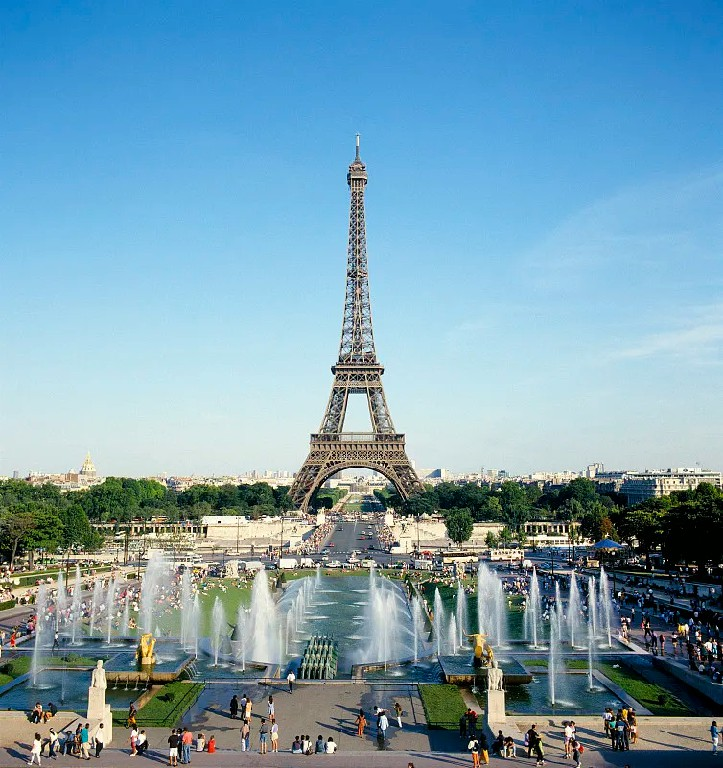Eiffel: (285, 131, 427, 512)
